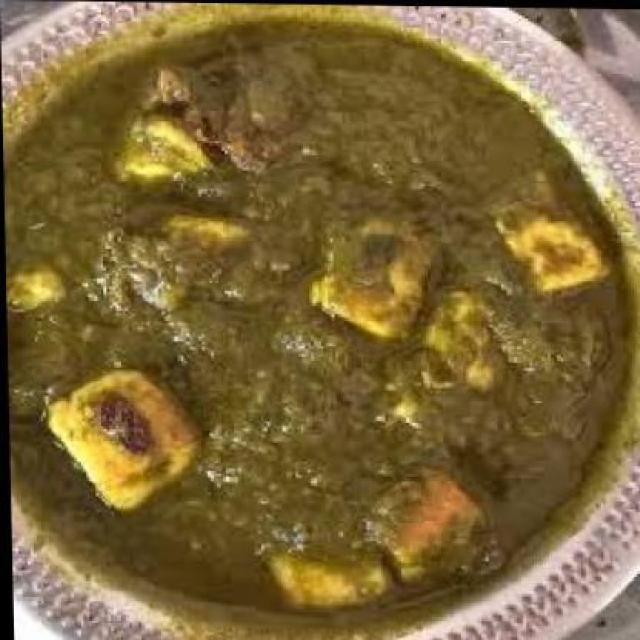palak_paneer: (0, 10, 635, 618)
